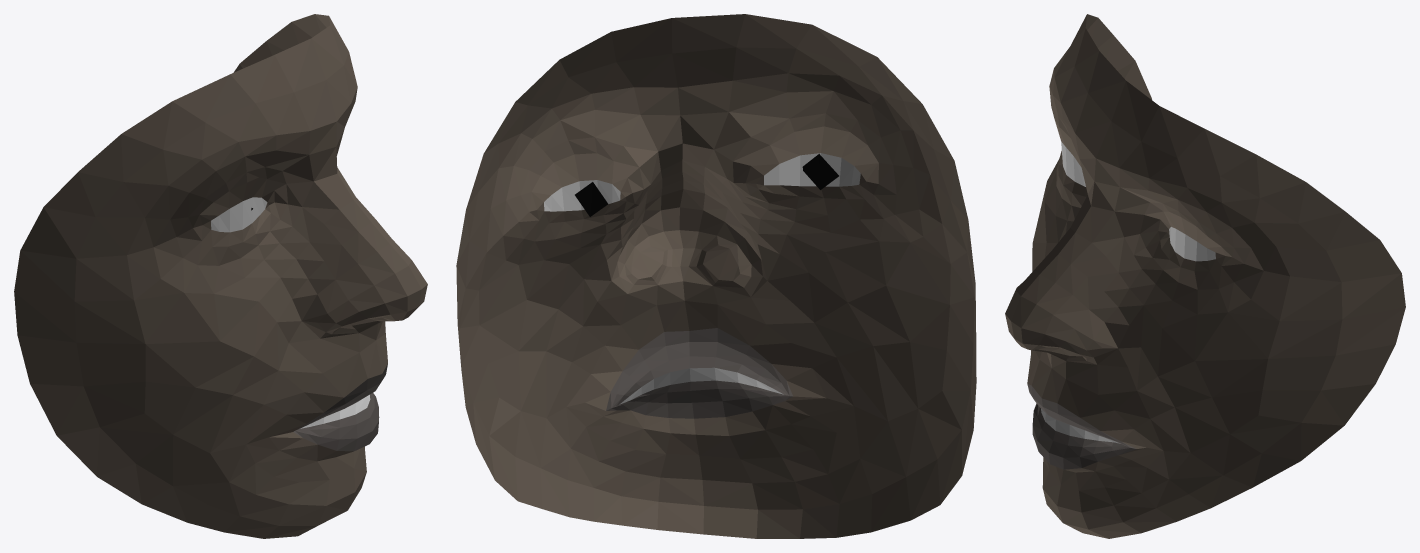
The model's file is IMG_0279.obj.
The picture shows the model from 3 angles, left to right: view 1: azimuth 30°, elevation 25°; view 2: azimuth 150°, elevation 25°; view 3: azimuth 270°, elevation 25°; orthographic projection. The views are drawn at different scales.
Parts seen in each view (by area): view 1: face_model_with_iris; view 2: face_model_with_iris; view 3: face_model_with_iris.
Boxes of the visible parts, bbox=[...] form: face_model_with_iris: bbox=[14, 14, 427, 538]; face_model_with_iris: bbox=[456, 14, 976, 538]; face_model_with_iris: bbox=[1005, 14, 1405, 538].
Bounding box in the file's own units: 0.8381 × 1 × 0.7895.
